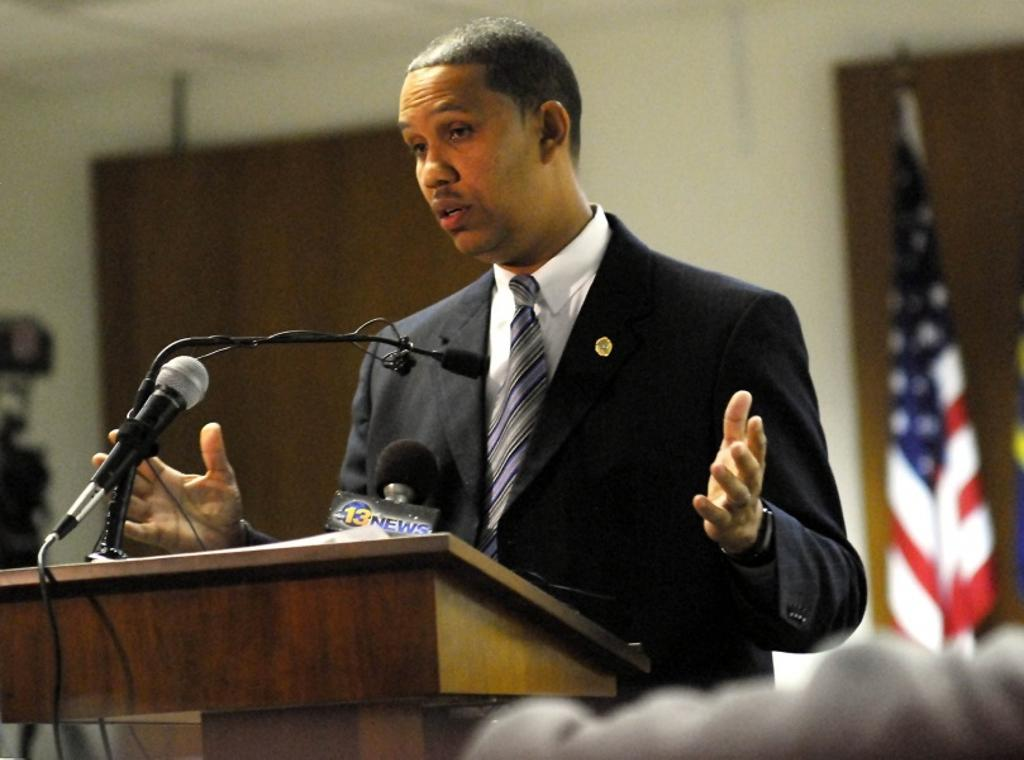face: (400, 70, 544, 254)
